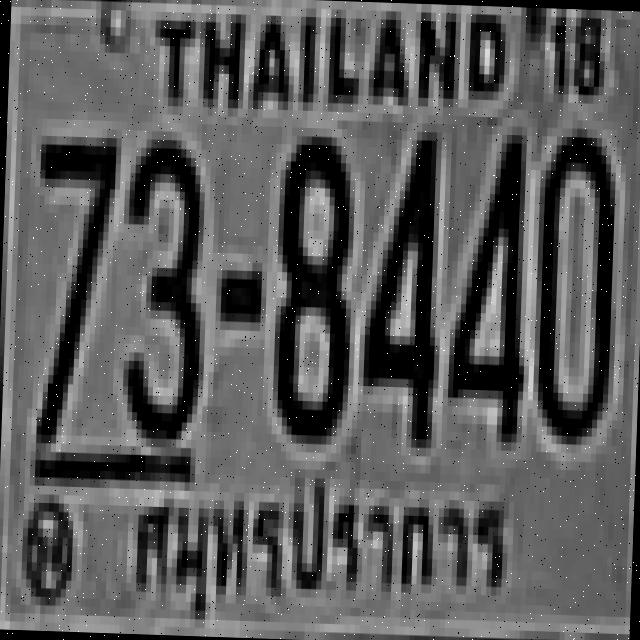0: (528, 128, 614, 436)
3: (116, 130, 207, 440)
4: (356, 121, 442, 439), (441, 124, 527, 433)
7: (26, 126, 116, 436)
8: (271, 127, 352, 436)
SamutPrakan: (116, 470, 518, 626)
